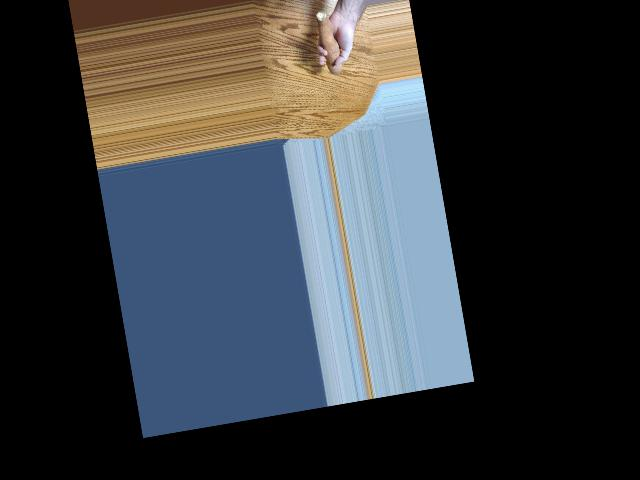sweet_potato: (312, 7, 340, 80)
